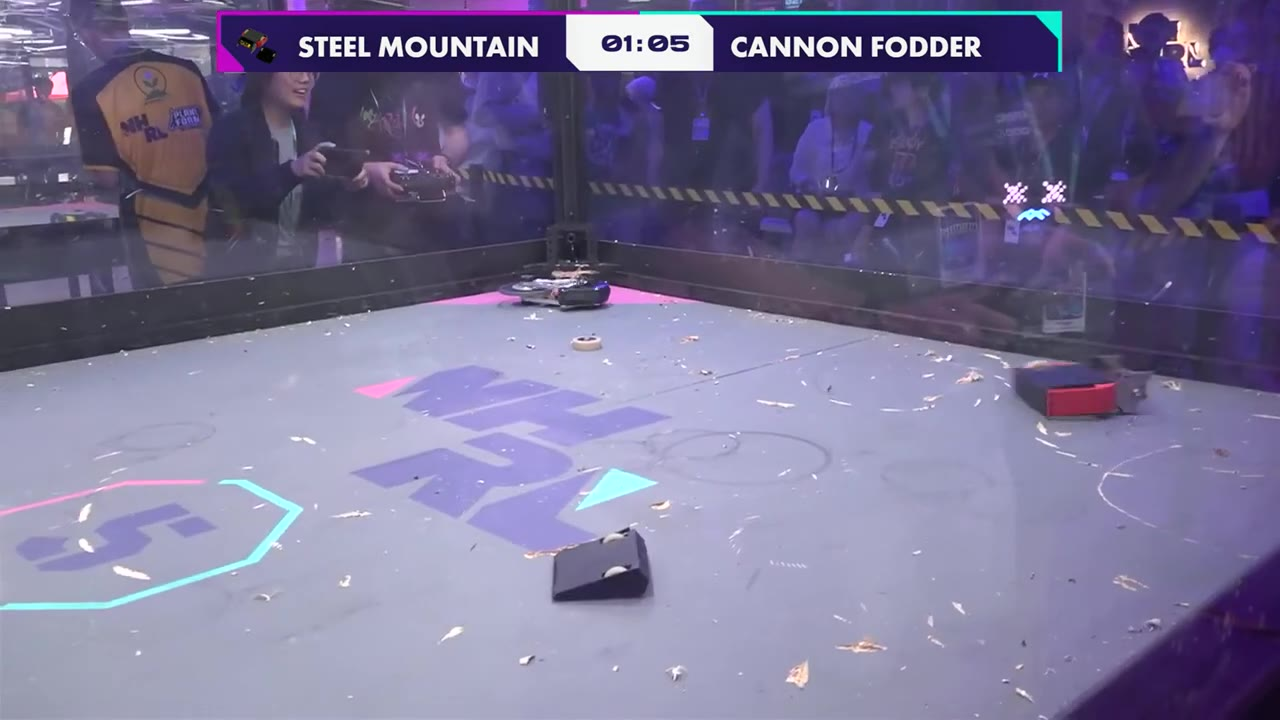combatbot: (1013, 351, 1149, 419), (503, 271, 613, 310)
minibot: (550, 526, 656, 602)
wheel: (571, 334, 602, 354)
